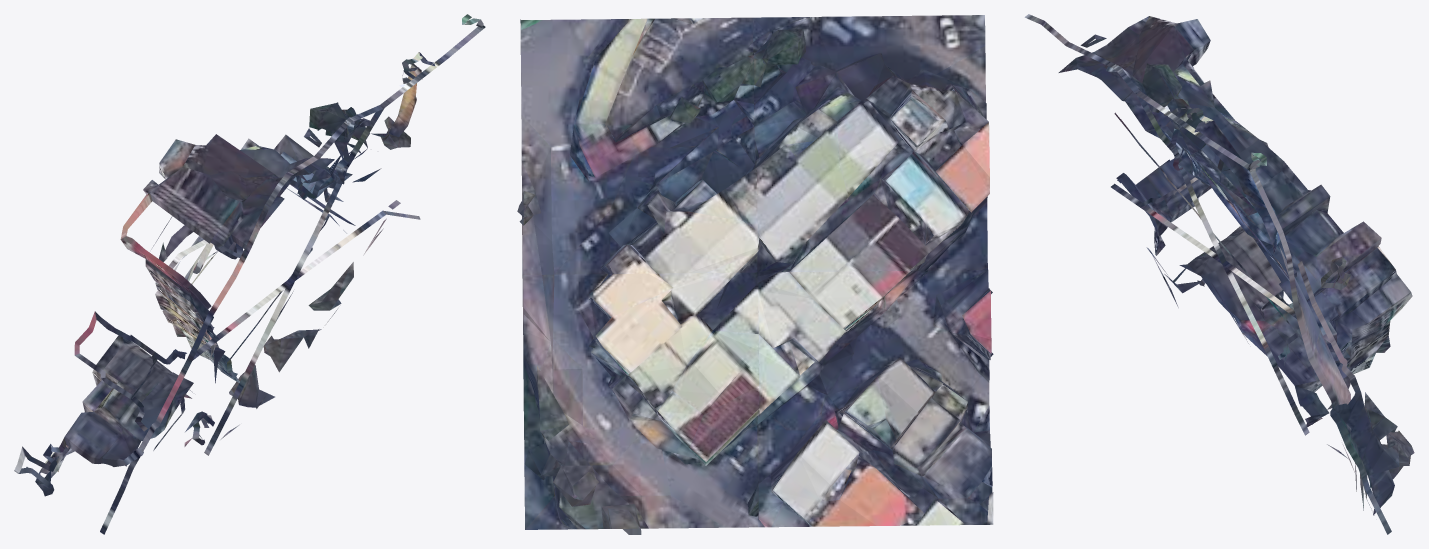
3 renders of one model, left to right at view 1: azimuth 30°, elevation 25°; view 2: azimuth 150°, elevation 25°; view 3: azimuth 270°, elevation 25°, orthographic. The views are drawn at different scales.
Size of the model in its own units: 84.77 by 73.77 by 63.33.
Materials: 1 (1 with a texture image).
